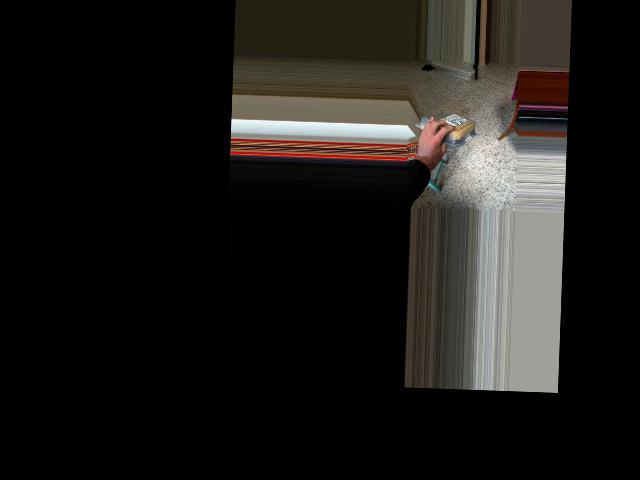cheese: (432, 111, 478, 142)
